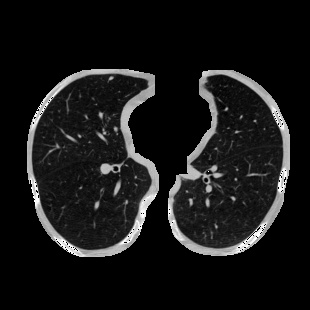PN: (108, 76, 112, 80)
